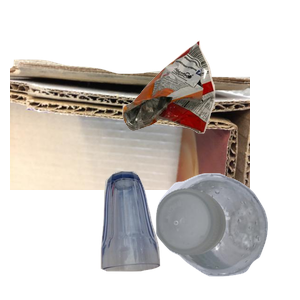cardboard: (10, 57, 250, 237)
glass: (98, 168, 251, 300)
plastic: (153, 170, 300, 300)
trash: (120, 38, 300, 164)
